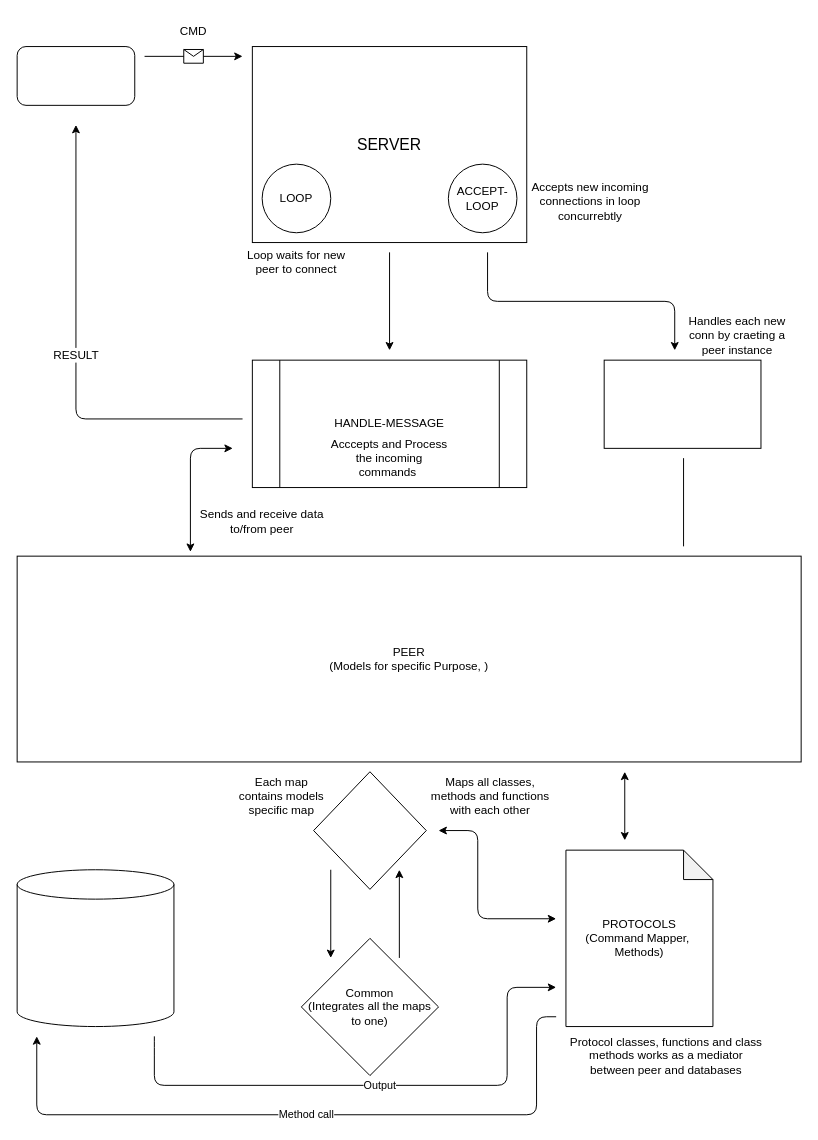
This 818x1140 diagram has some shape labels left out. Here are the shapes that lost their labels. From the top down, the centre of each, then its label:
[75,75]: CLIENT
[682,403]: HANDLE-CONN
[369,830]: SERVICES (Command Maps )
[95,948]: MODELS
